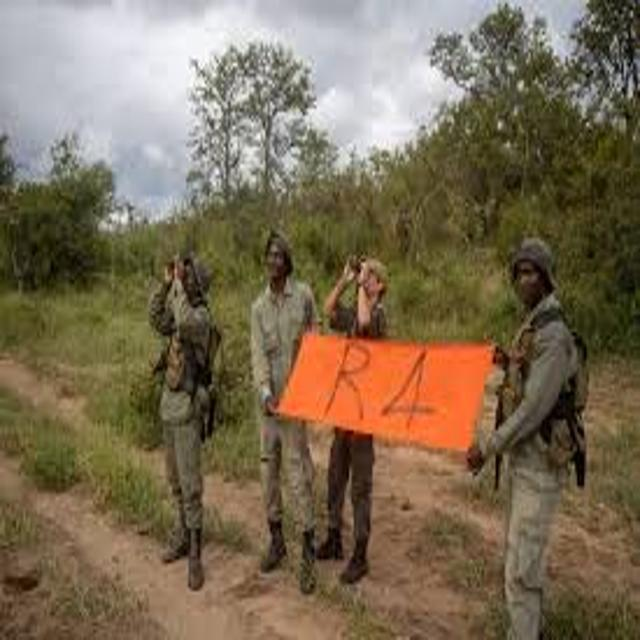ranger: (436, 217, 617, 640), (211, 208, 352, 611), (107, 231, 253, 599), (290, 240, 412, 595)
